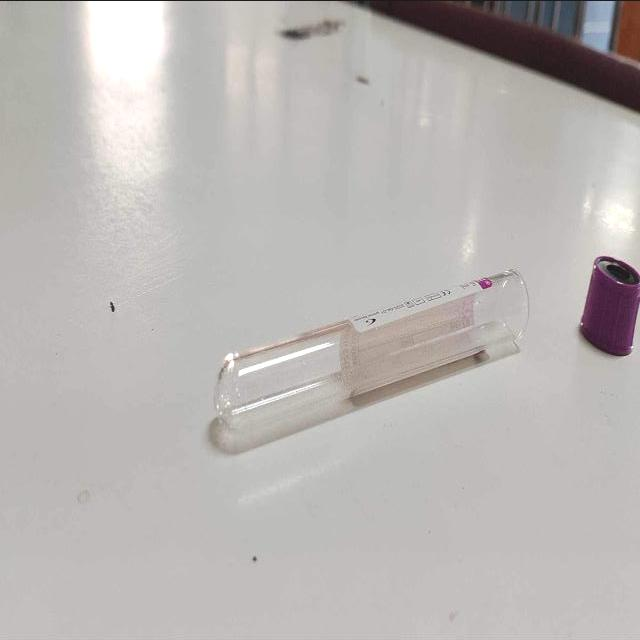General: (577, 254, 638, 359)
Sharps: (207, 267, 529, 456)
